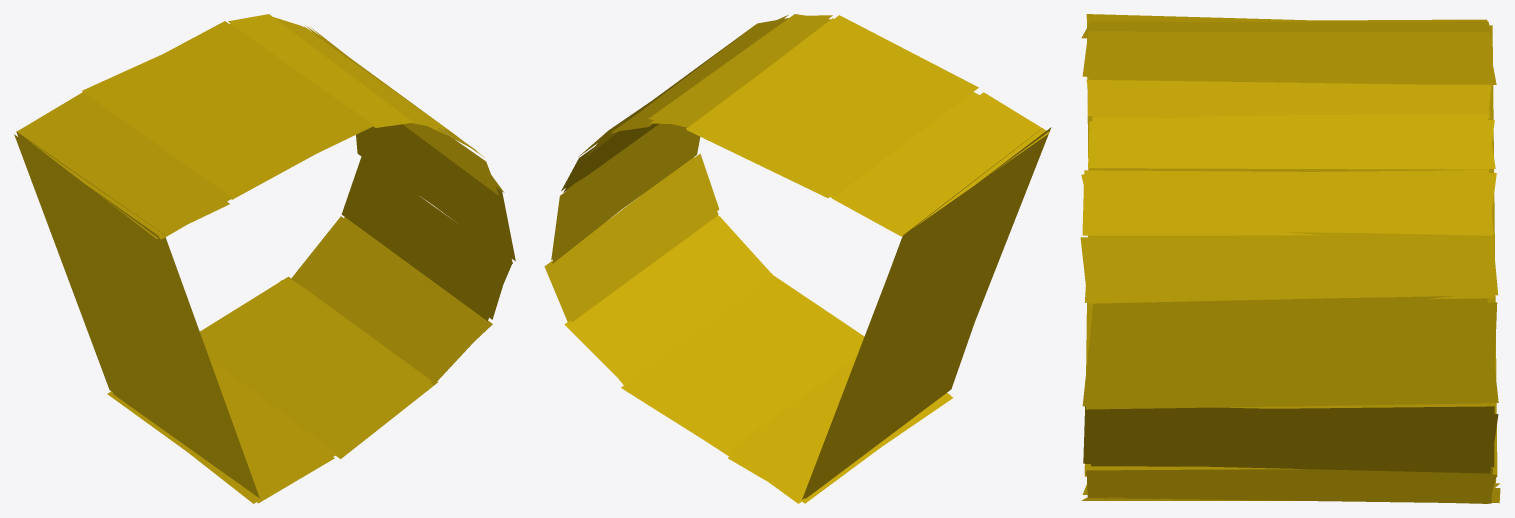
The model's file is original-14.obj.
3 renders of one model, left to right at view 1: azimuth 30°, elevation 25°; view 2: azimuth 150°, elevation 25°; view 3: azimuth 270°, elevation 25°, orthographic. The views are drawn at different scales.
Visible parts, largest first — view 1: #ID94; view 2: #ID94; view 3: #ID94.
Part boxes in pixels (left/top/right/bottom): #ID94: left=14, top=14, right=515, bottom=503; #ID94: left=544, top=14, right=1051, bottom=503; #ID94: left=1080, top=14, right=1500, bottom=503.
Bounding box in the file's own units: 0.00818 × 0.0077 × 0.00606.
